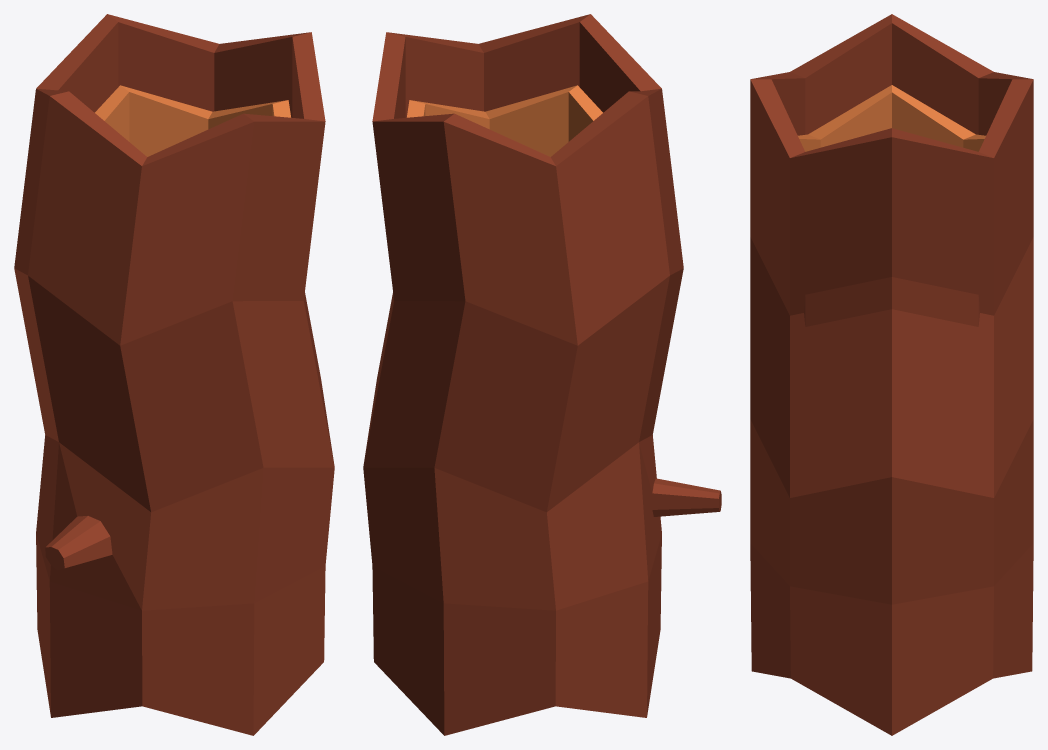
File: Log.fbx
3 renders of one model, left to right at view 1: azimuth 30°, elevation 25°; view 2: azimuth 150°, elevation 25°; view 3: azimuth 270°, elevation 25°, orthographic. The views are drawn at different scales.
Visible parts, largest first — view 1: Cube, Cube.001; view 2: Cube, Cube.001; view 3: Cube, Cube.001.
Part boxes in pixels (left/top/right/bottom): Cube: left=14, top=14, right=334, bottom=735; Cube.001: left=95, top=85, right=290, bottom=156; Cube: left=363, top=14, right=721, bottom=735; Cube.001: left=407, top=85, right=602, bottom=156; Cube: left=750, top=14, right=1033, bottom=735; Cube.001: left=798, top=85, right=985, bottom=151.
Size of the model in its own units: 288 by 555 by 238.
